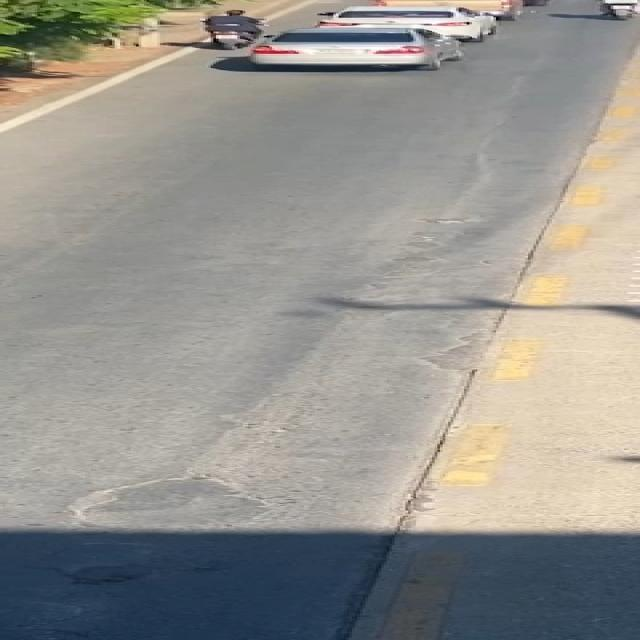car: (244, 30, 468, 74), (309, 2, 514, 43)
